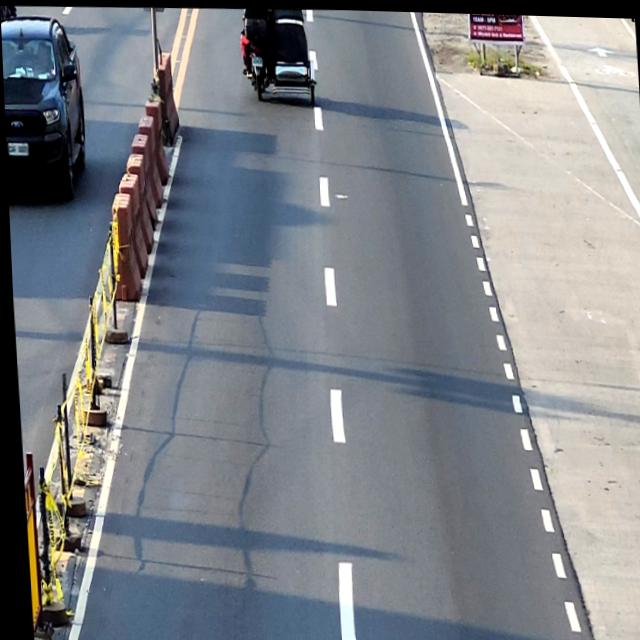Car: (0, 13, 87, 201)
License-Plate: (6, 142, 27, 156), (251, 54, 262, 65)
Tricycle: (242, 6, 316, 100)
